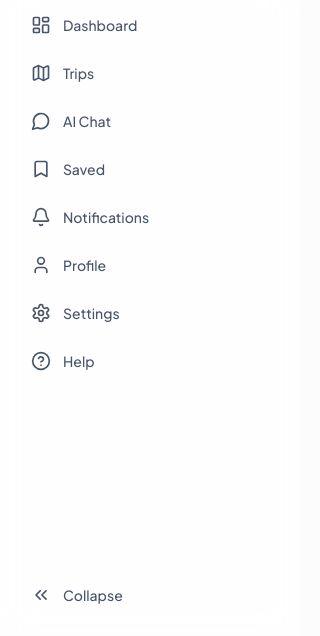
Test: Sidebar › collapses on toggle and hides text labels behind sr-only
The image size is (320, 636).
Click the button with aria-label "collapse sidebar" at (93, 595), box [17,573,283,617]
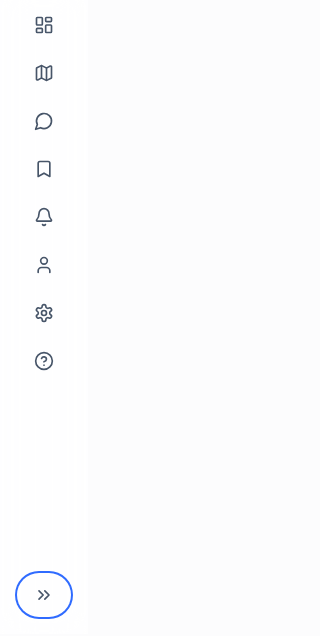
Check: the button named "expand sidebar" is shown, box [17,573,71,617]
